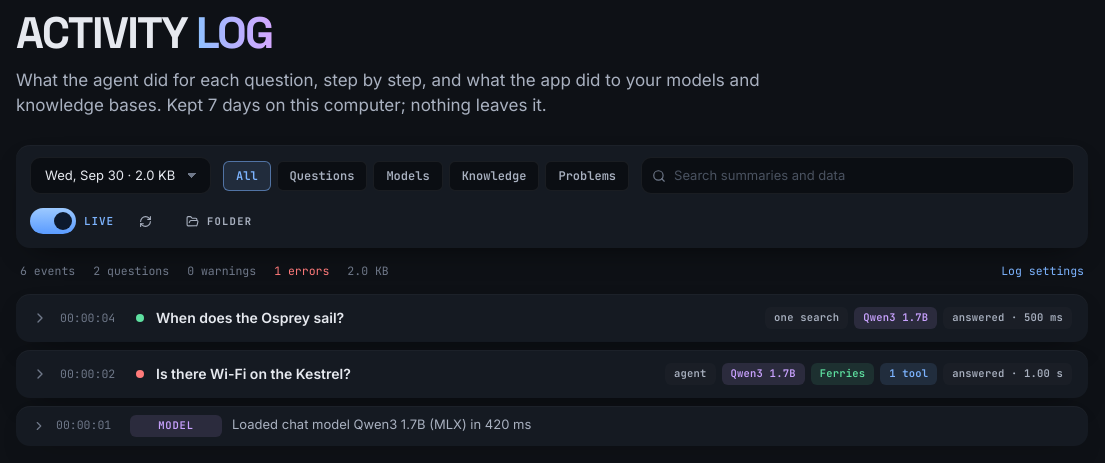
it: Logs › reads another day when picked
Expected: the button "Osprey" is shown, [16,294,1088,342]
Select "Tue, Sep 29 · 2.0 KB" in the dropdown named "Day" at x=120, y=176, box [30,157,211,194]
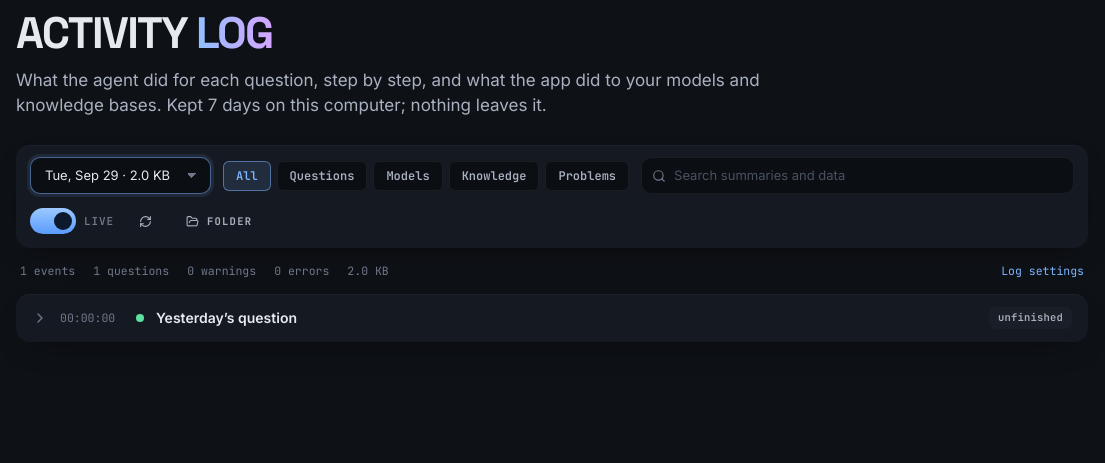
Now the button "00:00:00 Yesterday’s question unfinished" is shown, box [16,294,1088,342]
